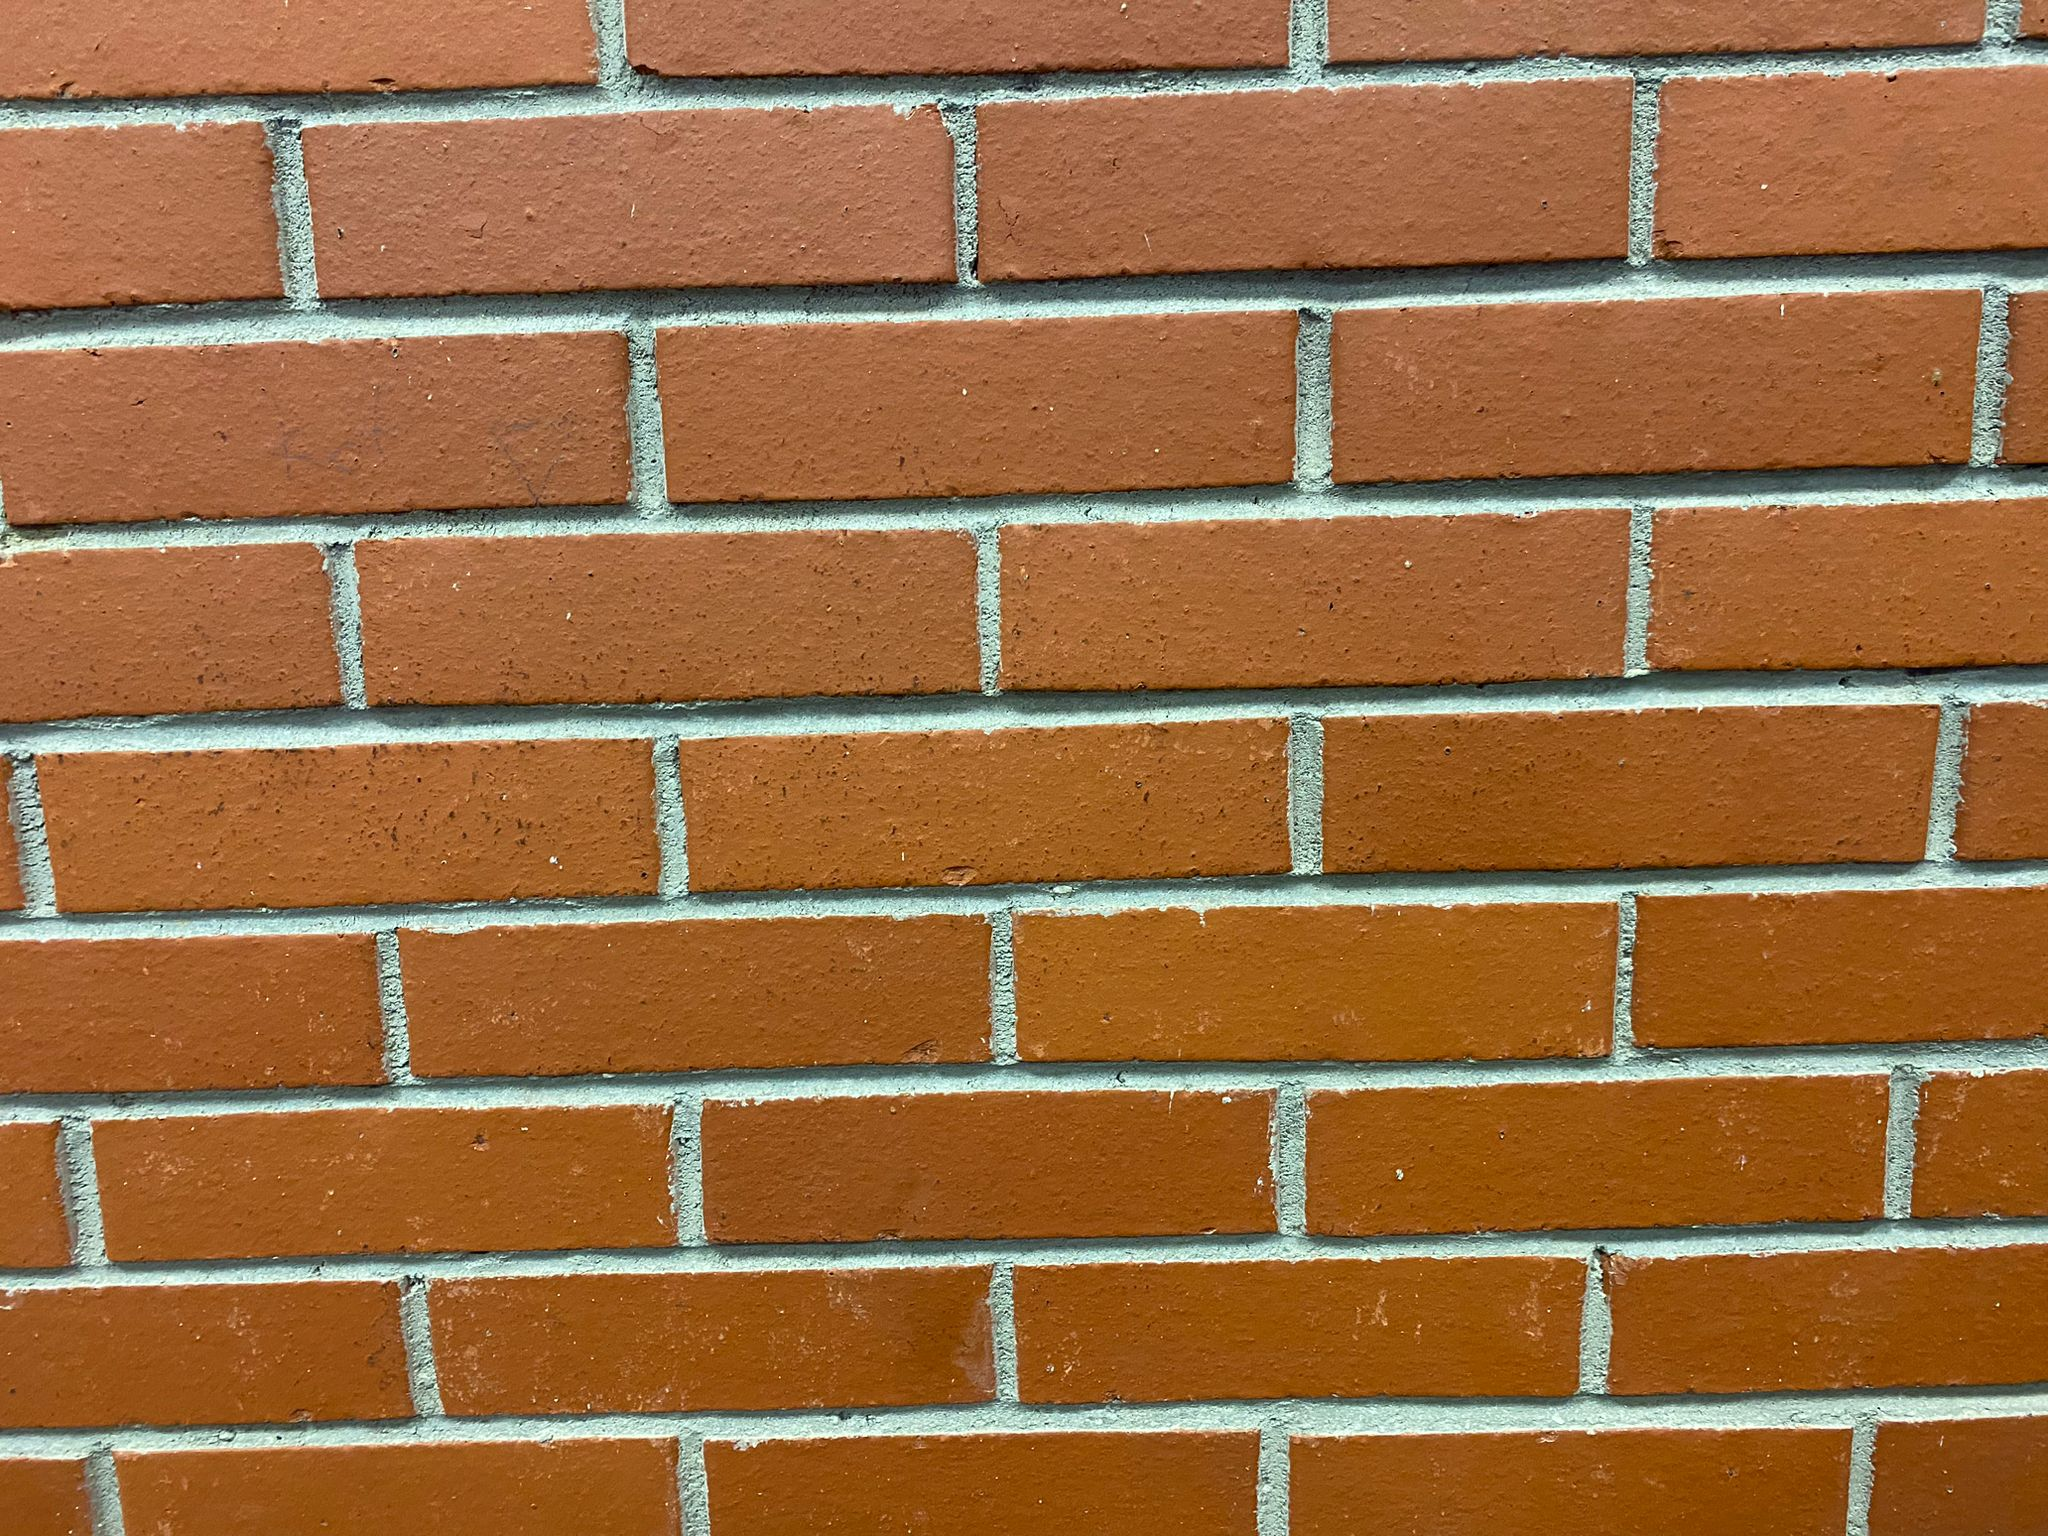redbrick: (1322, 286, 2001, 502), (642, 310, 1313, 508), (968, 511, 1638, 697), (342, 532, 987, 716), (650, 720, 1298, 899), (998, 908, 1637, 1079), (689, 1075, 1292, 1254), (413, 1254, 1021, 1426), (1563, 1234, 2048, 1410), (1638, 497, 2048, 699)
